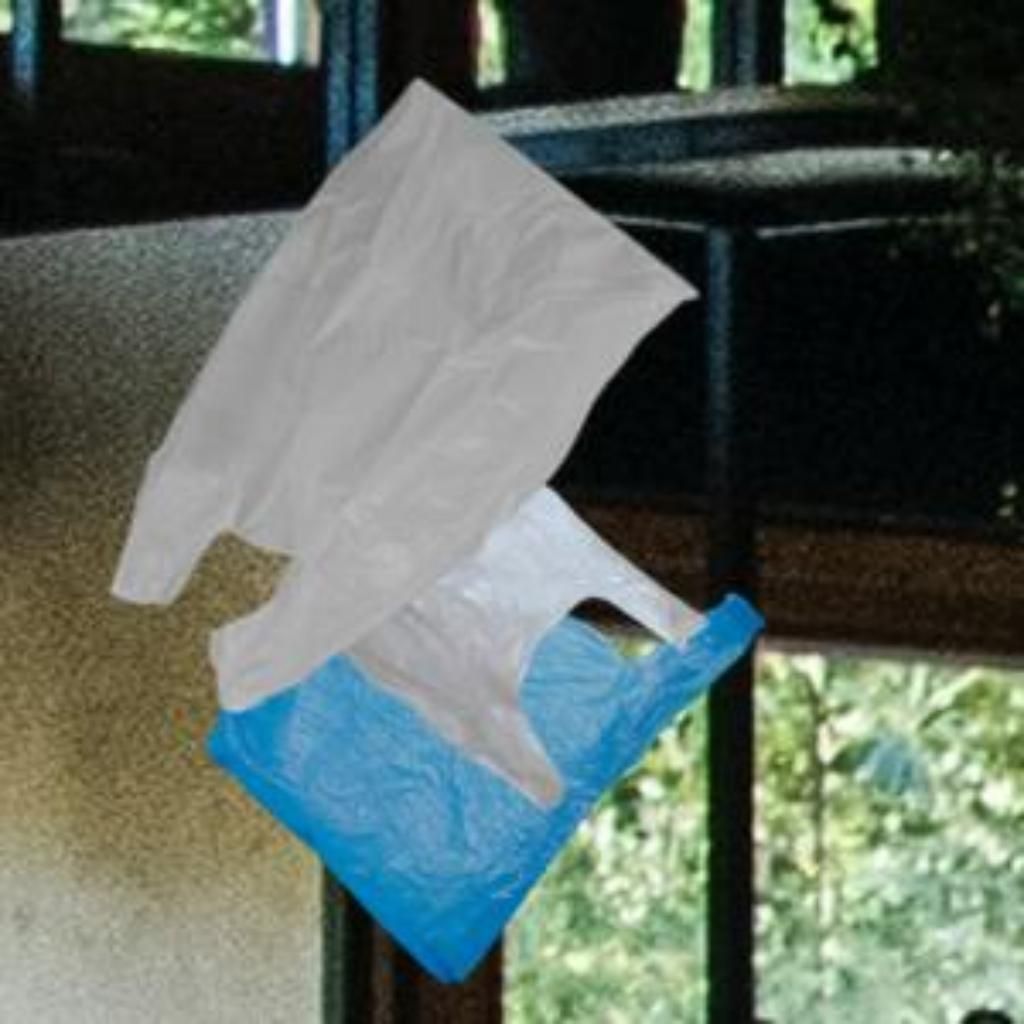garbage: (183, 46, 555, 715), (215, 568, 775, 995), (425, 495, 667, 788)
